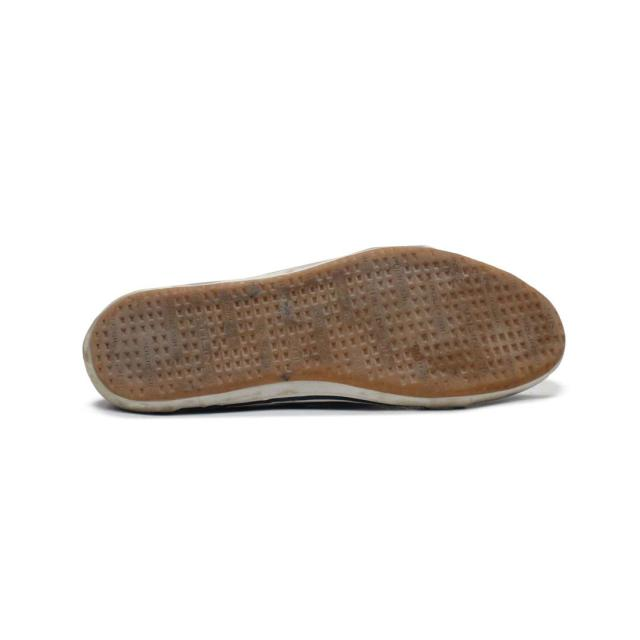outersole: (86, 244, 565, 405)
